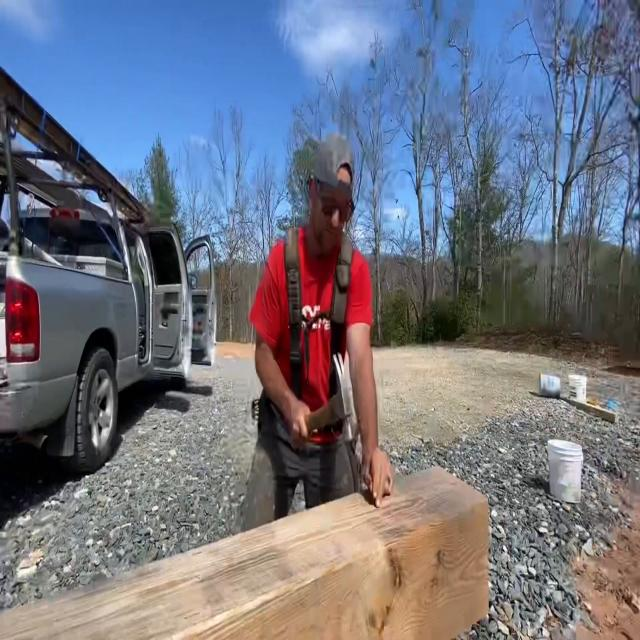hammer: (295, 352, 354, 444)
